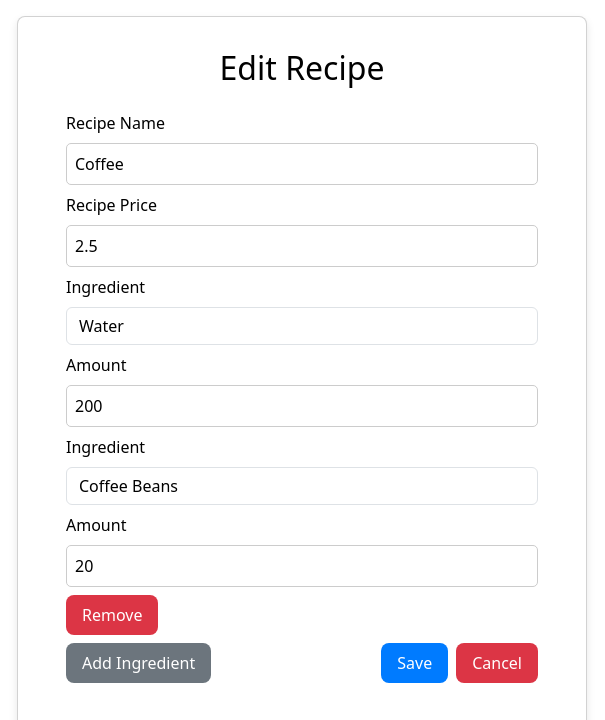
Test: EditRecipeComponent › shows validation error for empty ingredient name
Expected: the 3rd field showing "200" is shown, [66, 385, 538, 427]
# Set empty ingredient name
Select "Select Ingredient" in the 1st dropdown at (302, 326), box [66, 307, 538, 345]
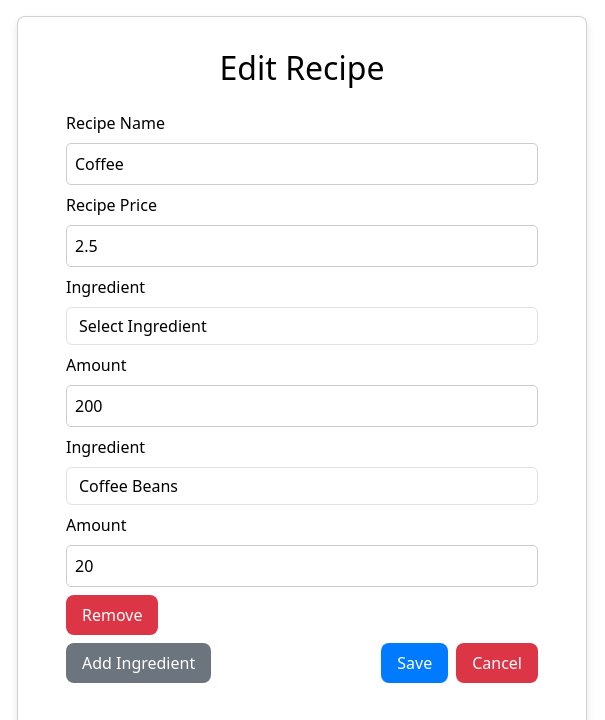
Click the button "Save" at (415, 663), box [381, 643, 448, 683]
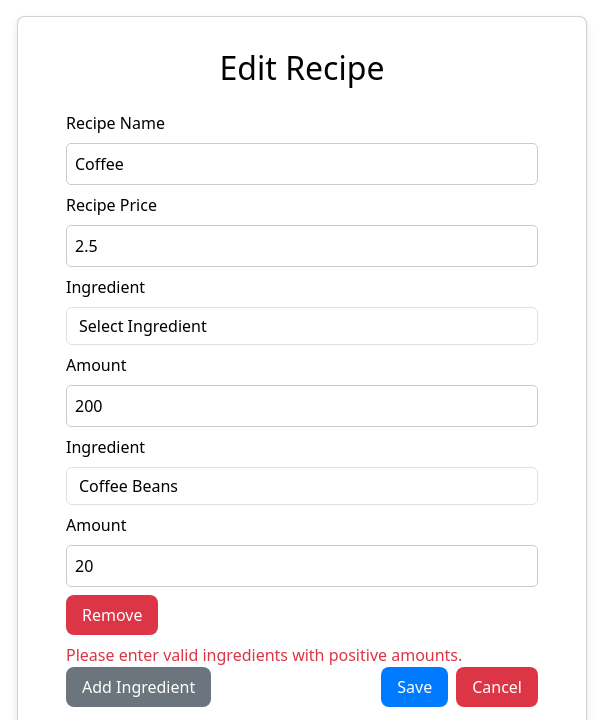
Now the text "Please enter valid ingredients with positive amounts." is shown, box [66, 644, 462, 666]
